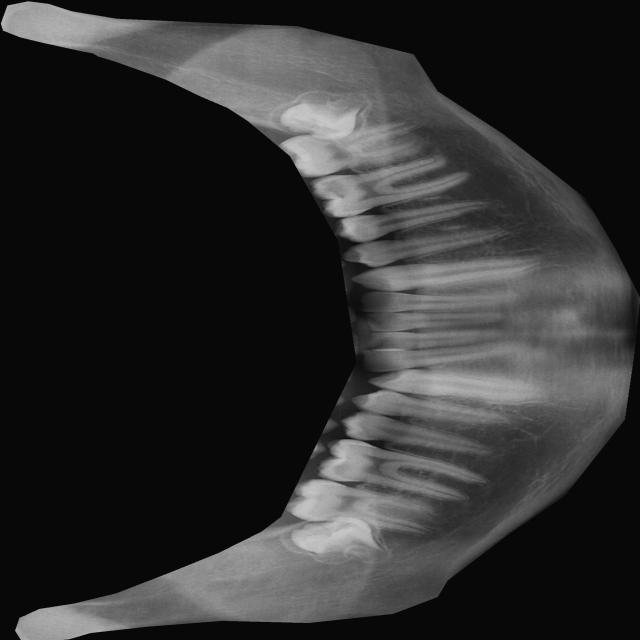mandibula: (1, 0, 640, 640)
